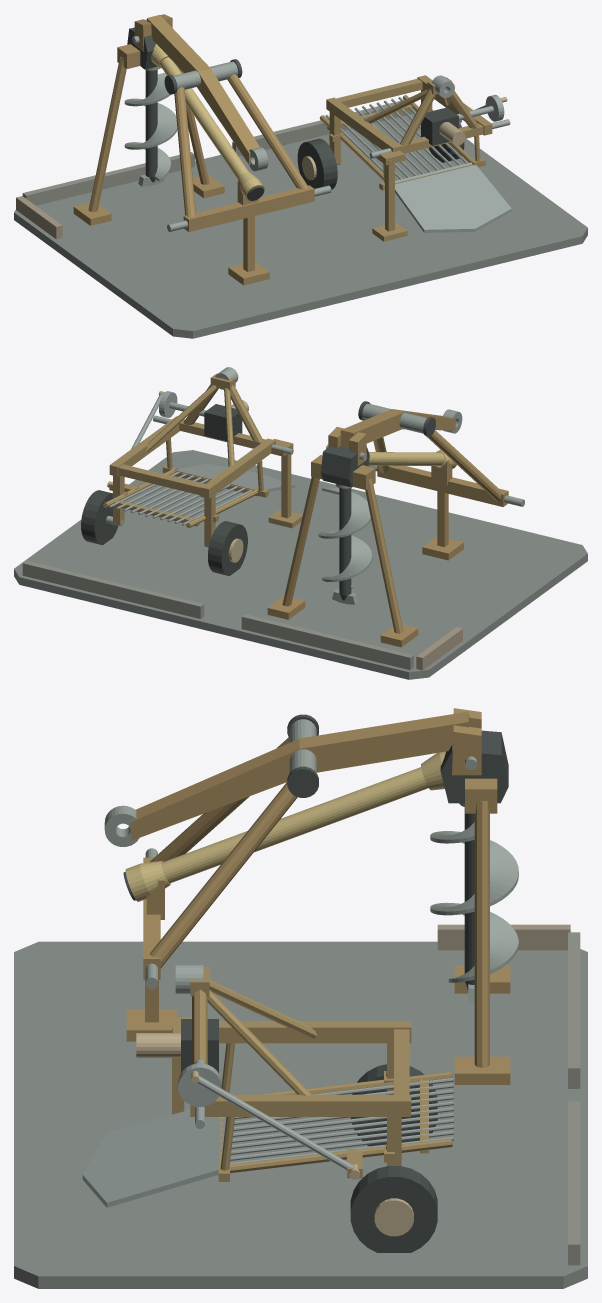
The picture shows the model from 3 angles, top to bottom: view 1: azimuth 30°, elevation 25°; view 2: azimuth 150°, elevation 25°; view 3: azimuth 270°, elevation 25°; orthographic projection. The views are drawn at different scales.
Parts seen in each view (by area): view 1: WholeChamferedEquipmentCourtFloor, RodGridDigger__WholeBroadBentVFrontLiftingShare, VerticalAuger__WholeContinuousBentUpperBoom, VerticalAuger__WholeLowerYokeTransverseBeam, WholeShortRearBoundary0, VerticalAuger__WholeThickTwoAndQuarterTurnHelicalFlight, VerticalAuger__WholeSlopingInputDrivelineEnclosure, VerticalAuger__WholeConvergingLowerYokeMember1, VerticalAuger__WholeSplayedRearParkingLeg0, VerticalAuger__WholeConvergingLowerYokeMember0, RodGridDigger__WholeGroundedRearTyre0, WholeShortRearBoundary1 (+19 smaller); view 2: WholeChamferedEquipmentCourtFloor, WholeShortRearBoundary1, WholeShortRearBoundary0, VerticalAuger__WholeThickTwoAndQuarterTurnHelicalFlight, VerticalAuger__WholeLowerYokeTransverseBeam, VerticalAuger__WholeContinuousBentUpperBoom, RodGridDigger__WholeGroundedRearTyre0, VerticalAuger__WholeSplayedRearParkingLeg0, RodGridDigger__WholeGroundedRearTyre1, VerticalAuger__WholeClosedRightAngleGearbox, RodGridDigger__WholeHighChassisSideRail0, VerticalAuger__WholeSplayedRearParkingLeg1 (+23 smaller); view 3: WholeChamferedEquipmentCourtFloor, VerticalAuger__WholeContinuousBentUpperBoom, RodGridDigger__WholeBroadBentVFrontLiftingShare, VerticalAuger__WholeSlopingInputDrivelineEnclosure, RodGridDigger__WholeGroundedRearTyre1, RodGridDigger__WholeHighChassisSideRail1, VerticalAuger__WholeSplayedRearParkingLeg1, VerticalAuger__WholeThickTwoAndQuarterTurnHelicalFlight, VerticalAuger__WholeConvergingLowerYokeMember1, RodGridDigger__WholeHighChassisSideRail0, VerticalAuger__WholeClosedRightAngleGearbox, WholeLeftRearReturnBoundary (+31 smaller).
Boxes of the visible parts, x1,y1,x2,y2 form: WholeChamferedEquipmentCourtFloor: (14, 110, 587, 338); RodGridDigger__WholeBroadBentVFrontLiftingShare: (395, 162, 511, 232); VerticalAuger__WholeContinuousBentUpperBoom: (146, 15, 259, 164); VerticalAuger__WholeLowerYokeTransverseBeam: (183, 185, 314, 231); WholeShortRearBoundary0: (22, 152, 194, 205); VerticalAuger__WholeThickTwoAndQuarterTurnHelicalFlight: (124, 72, 177, 181); VerticalAuger__WholeSlopingInputDrivelineEnclosure: (160, 57, 248, 179); VerticalAuger__WholeConvergingLowerYokeMember1: (227, 74, 308, 189); VerticalAuger__WholeSplayedRearParkingLeg0: (88, 56, 126, 211); VerticalAuger__WholeConvergingLowerYokeMember0: (174, 87, 195, 216); RodGridDigger__WholeGroundedRearTyre0: (297, 138, 337, 189); WholeShortRearBoundary1: (232, 101, 413, 156); WholeChamferedEquipmentCourtFloor: (14, 450, 587, 679); WholeShortRearBoundary1: (22, 560, 204, 618); WholeShortRearBoundary0: (241, 614, 413, 669); VerticalAuger__WholeThickTwoAndQuarterTurnHelicalFlight: (318, 487, 372, 589); VerticalAuger__WholeLowerYokeTransverseBeam: (377, 465, 508, 506); VerticalAuger__WholeContinuousBentUpperBoom: (340, 409, 455, 447); RodGridDigger__WholeGroundedRearTyre0: (208, 521, 247, 575); VerticalAuger__WholeSplayedRearParkingLeg0: (365, 478, 403, 633); RodGridDigger__WholeGroundedRearTyre1: (81, 490, 118, 545); VerticalAuger__WholeClosedRightAngleGearbox: (321, 446, 369, 487); RodGridDigger__WholeHighChassisSideRail0: (200, 438, 275, 498); VerticalAuger__WholeSplayedRearParkingLeg1: (282, 477, 319, 606); WholeChamferedEquipmentCourtFloor: (14, 941, 587, 1288); VerticalAuger__WholeContinuousBentUpperBoom: (131, 711, 470, 840); RodGridDigger__WholeBroadBentVFrontLiftingShare: (82, 1110, 226, 1207); VerticalAuger__WholeSlopingInputDrivelineEnclosure: (162, 767, 428, 883); RodGridDigger__WholeGroundedRearTyre1: (350, 1166, 437, 1252); RodGridDigger__WholeHighChassisSideRail1: (190, 1094, 411, 1116); VerticalAuger__WholeSplayedRearParkingLeg1: (474, 801, 489, 1067); VerticalAuger__WholeThickTwoAndQuarterTurnHelicalFlight: (430, 822, 518, 982); VerticalAuger__WholeConvergingLowerYokeMember1: (150, 782, 297, 968); RodGridDigger__WholeHighChassisSideRail0: (219, 1021, 411, 1043); VerticalAuger__WholeClosedRightAngleGearbox: (440, 730, 508, 803); WholeLeftRearReturnBoundary: (437, 924, 570, 950).
Bounding box in the file's own units: 4.55 × 2.07 × 3.3.
